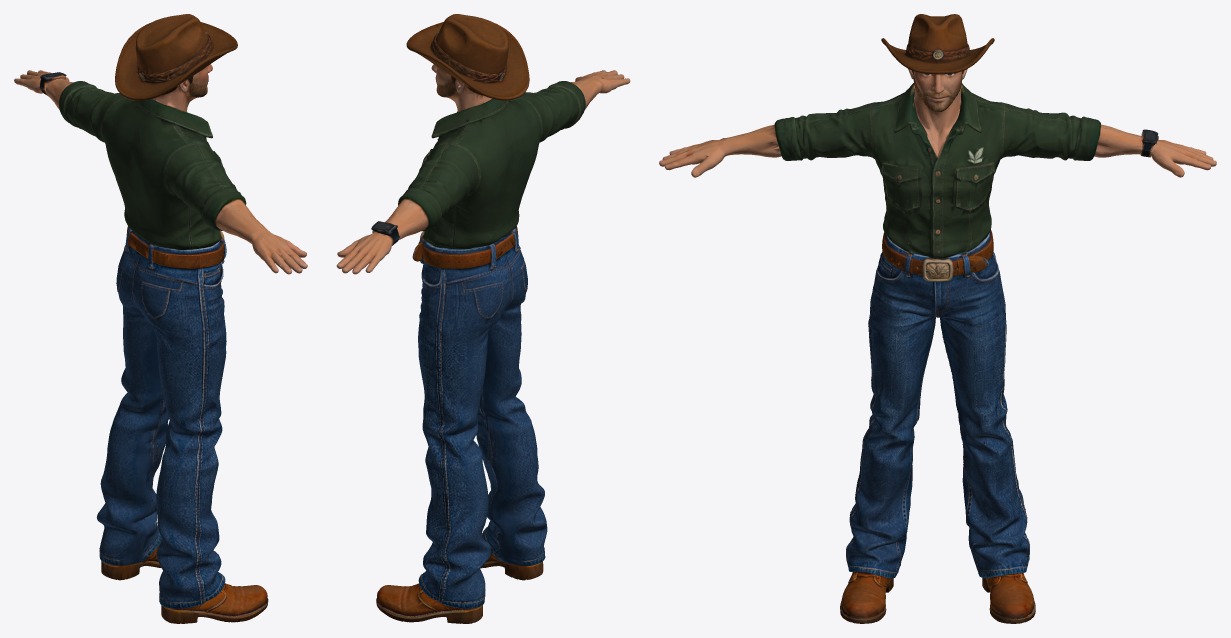
The model's file is personagem_mixamo.fbx.
3 views of the same model, side by side, from view 1: azimuth 30°, elevation 25°; view 2: azimuth 150°, elevation 25°; view 3: azimuth 270°, elevation 25° (orthographic). The views are drawn at different scales.
Parts seen in each view (by area): view 1: tripo_node_dafc2fb5-fb3e-4e99-80f7-f7999c897a85; view 2: tripo_node_dafc2fb5-fb3e-4e99-80f7-f7999c897a85; view 3: tripo_node_dafc2fb5-fb3e-4e99-80f7-f7999c897a85.
Boxes of the visible parts, <box> form: tripo_node_dafc2fb5-fb3e-4e99-80f7-f7999c897a85: <box>14,14,307,623</box>; tripo_node_dafc2fb5-fb3e-4e99-80f7-f7999c897a85: <box>336,14,630,623</box>; tripo_node_dafc2fb5-fb3e-4e99-80f7-f7999c897a85: <box>659,14,1216,623</box>.
Size of the model in its own units: 0.3579 by 1.8 by 1.55.
Materials: 1 (1 with a texture image).
